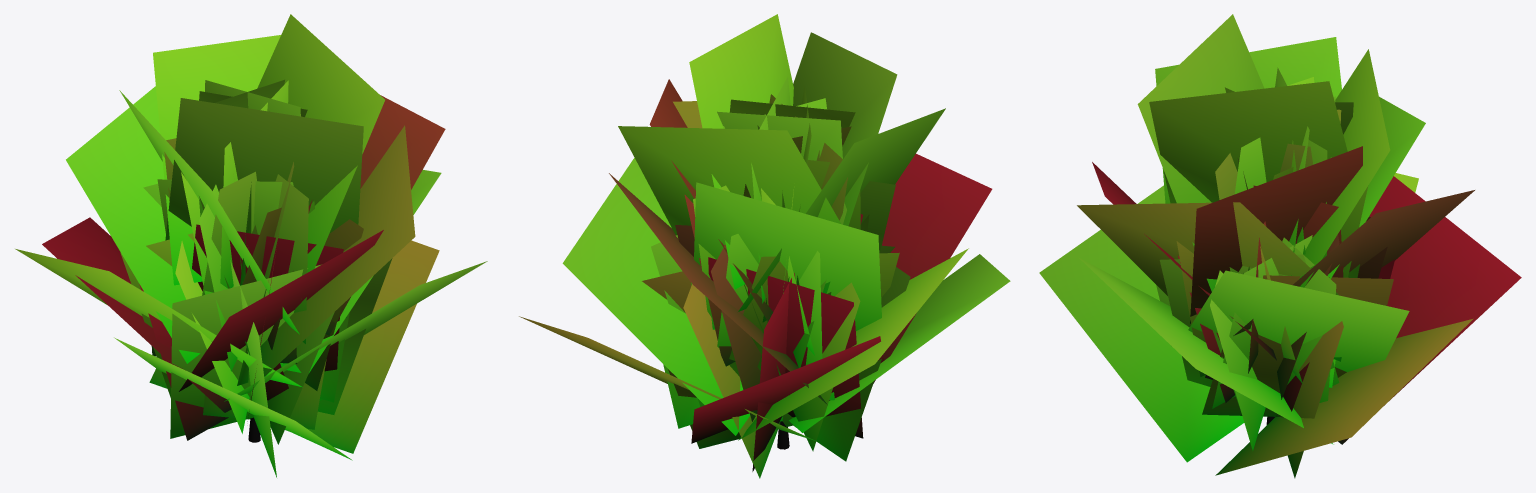
File: Bush_2_1.fbx
3 renders of one model, left to right at view 1: azimuth 30°, elevation 25°; view 2: azimuth 150°, elevation 25°; view 3: azimuth 270°, elevation 25°, orthographic.
Parts seen in each view (by area): view 1: _12; view 2: _12; view 3: _12.
Part boxes in pixels (bbox=[...]): _12: bbox=[15, 14, 487, 477]; _12: bbox=[519, 14, 1010, 478]; _12: bbox=[1039, 14, 1521, 478].
Bounding box in the file's own units: 577 × 539 × 598.
